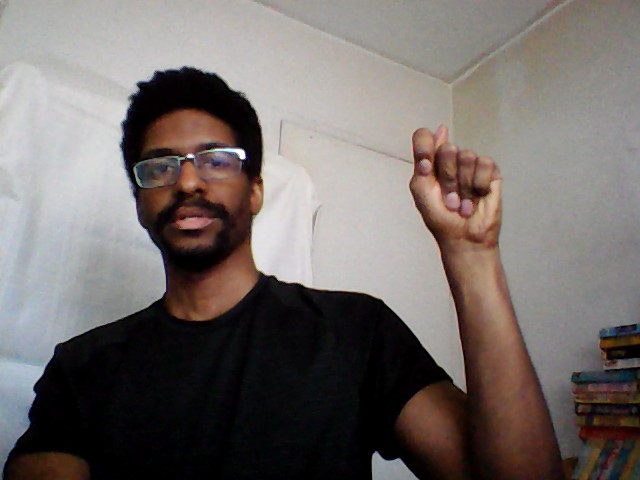t: (404, 120, 508, 251)
